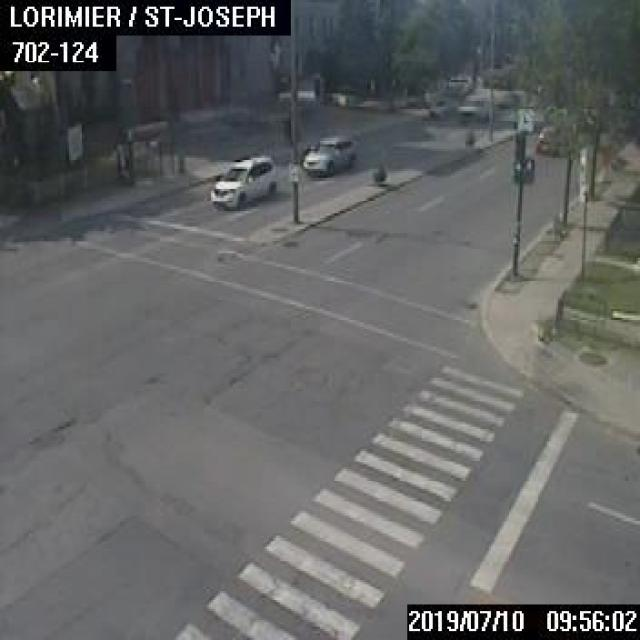vehicle: (209, 154, 275, 207), (302, 133, 354, 174), (534, 123, 564, 153), (457, 96, 487, 121), (446, 74, 480, 90), (428, 97, 451, 116)
